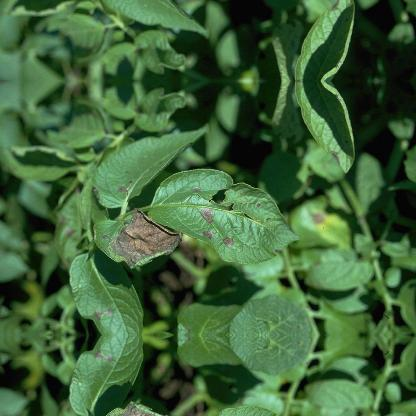Late-Blight: (87, 136, 289, 286), (296, 83, 380, 175), (87, 382, 289, 416), (296, 0, 379, 77)
